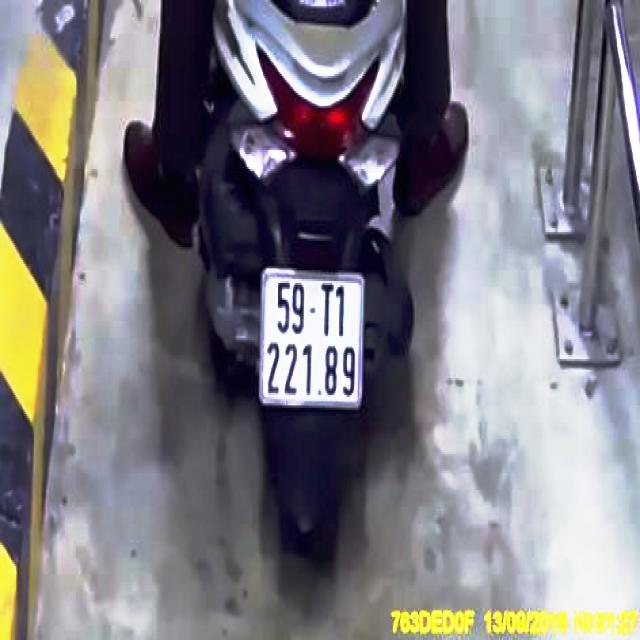license_plate: (265, 273, 365, 406)
